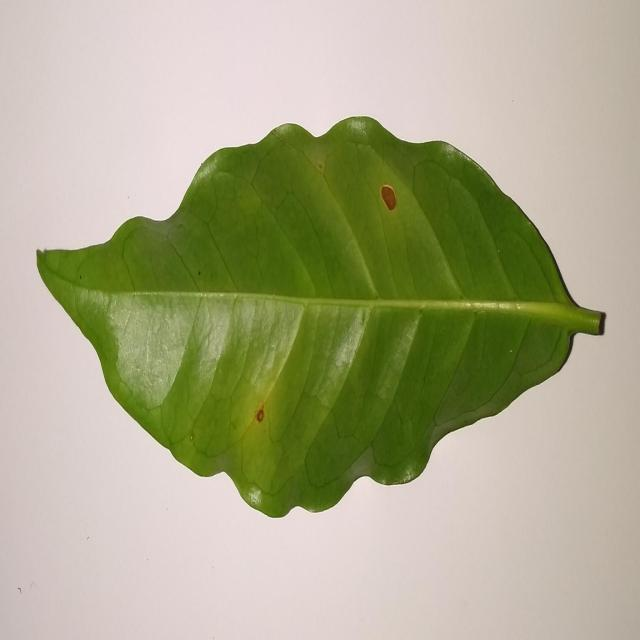Enfermedad-Mancha-de-hierro: (35, 117, 606, 522)
